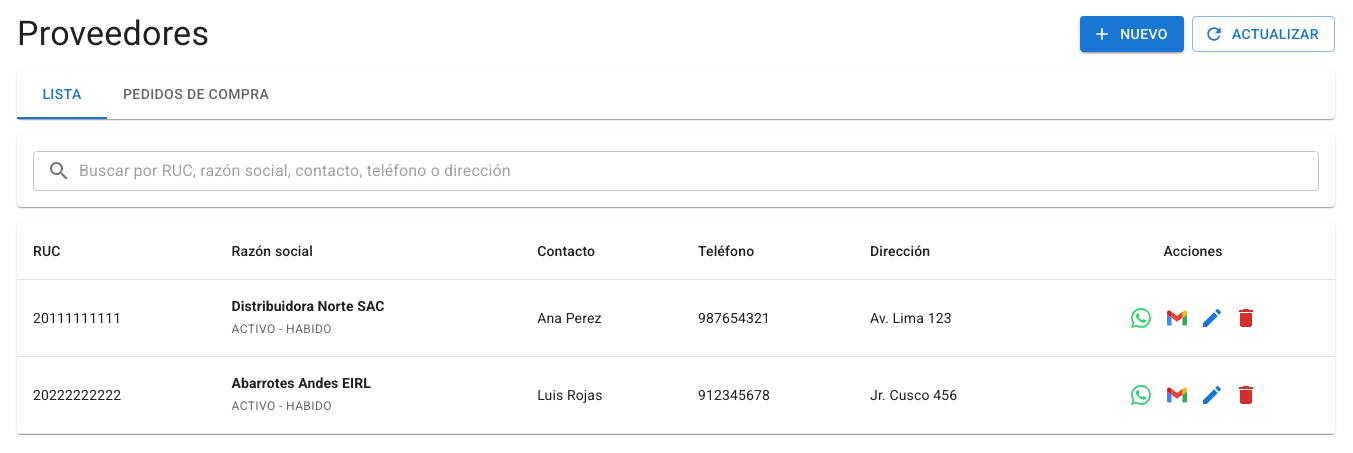
it: ProveedoresPage › busca proveedores por texto en la tabla
Expected: the heading "Distribuidora Norte SAC" is shown, [232, 298, 384, 314]
Type "andes" into the field with placeholder "Buscar por RUC, razón social, contacto, teléfono o dirección" at (699, 171), box [79, 151, 1319, 191]
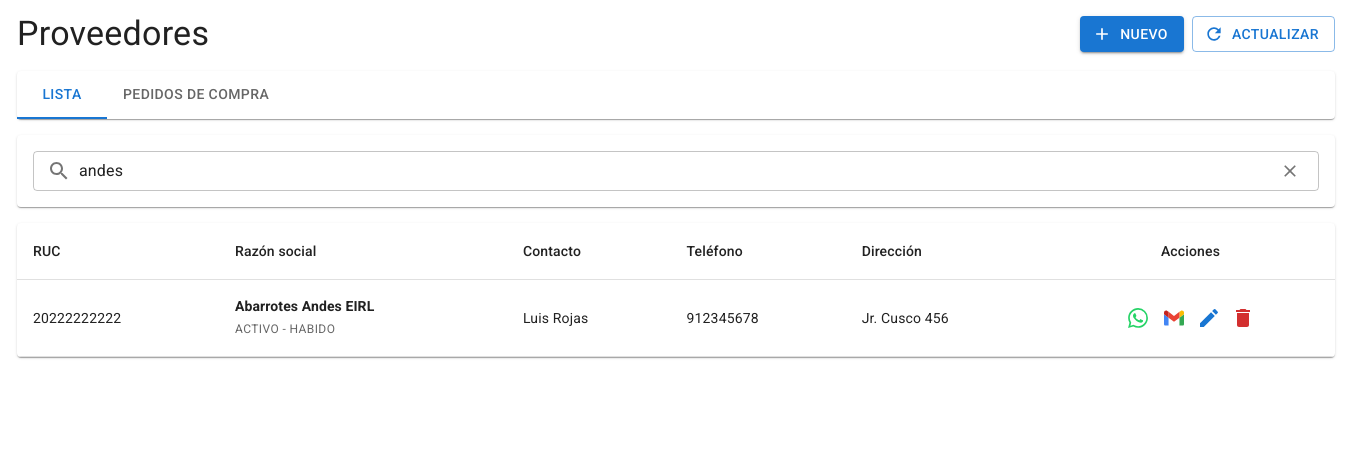
Expected: the heading "Abarrotes Andes EIRL" is shown, [235, 298, 374, 314]
Now the heading "Distribuidora Norte SAC" is gone
